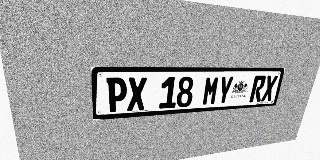1: (159, 77, 178, 109)
8: (176, 76, 195, 108)
M: (202, 76, 220, 106)
P: (106, 77, 127, 113)
R: (249, 75, 267, 102)
X: (127, 77, 147, 111), (261, 75, 278, 101)
Y: (216, 76, 234, 105)
